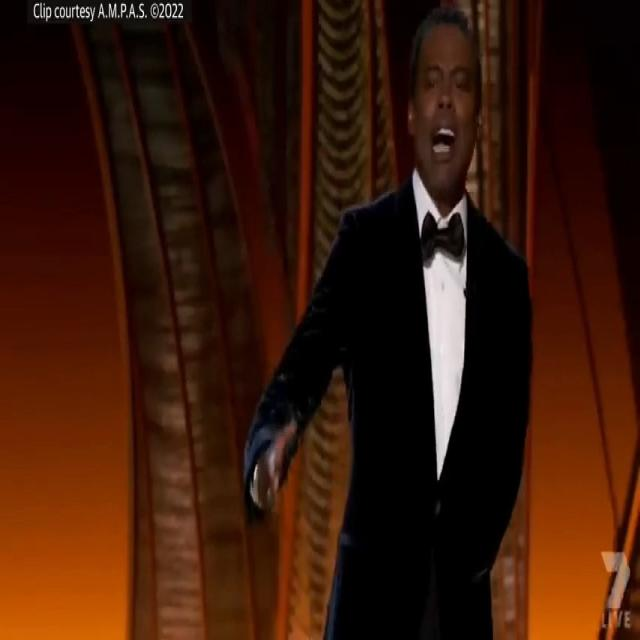non-fight: (224, 1, 564, 640)
